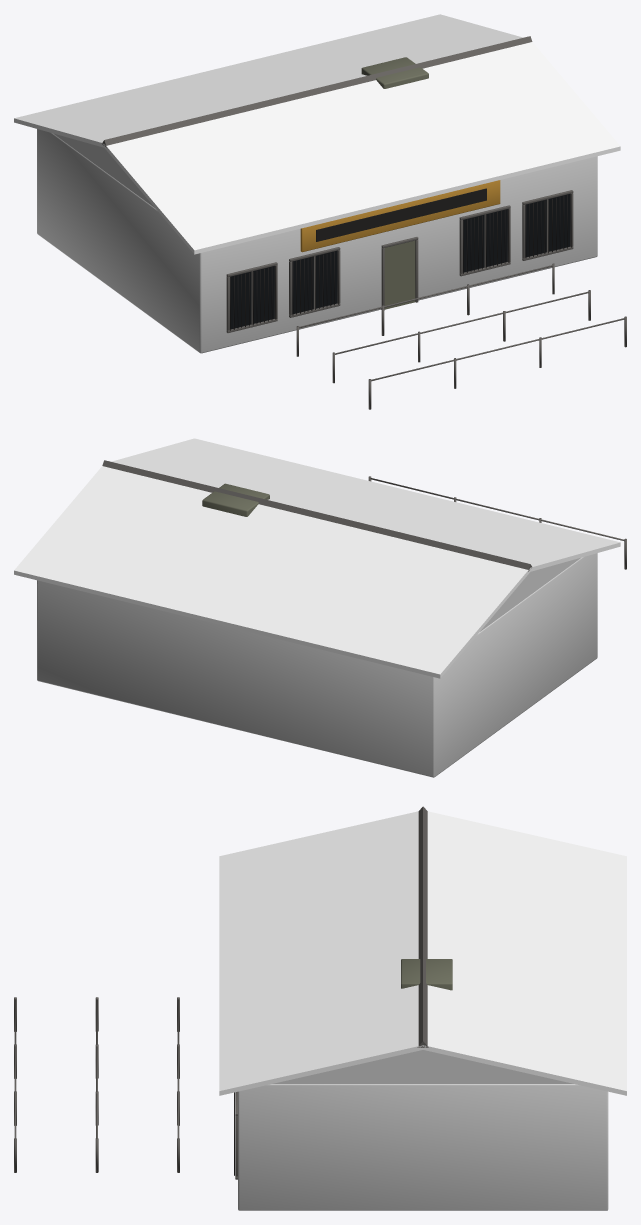
Rendered from bld_pawn_shop.glb.
3 renders of one model, top to bottom at view 1: azimuth 30°, elevation 25°; view 2: azimuth 150°, elevation 25°; view 3: azimuth 270°, elevation 25°, orthographic. The views are drawn at different scales.
Parts seen in each view (by area): view 1: pw_roof_front, pw_body, pw_roof_back, pw_fascia, pw_roof_cap, pw_win2, pw_win1, pw_win3, pw_win0, pw_fasciatext, pw_door, pw_roof_gable (+4 smaller); view 2: pw_body, pw_roof_back, pw_roof_front, pw_roof_cap, pw_roof_gable, pw_unit, pw_rail.002; view 3: pw_roof_front, pw_roof_back, pw_body, pw_roof_gable, pw_roof_cap, pw_unit.
Boxes of the visible parts, x1,y1,x2,y2 form: pw_roof_front: (104, 42, 620, 254); pw_body: (37, 129, 597, 353); pw_roof_back: (14, 14, 522, 147); pw_fascia: (300, 180, 500, 252); pw_roof_cap: (102, 36, 532, 147); pw_win2: (463, 209, 507, 272); pw_win1: (292, 251, 337, 313); pw_win3: (525, 194, 570, 257); pw_win0: (230, 266, 274, 329); pw_fasciatext: (316, 188, 486, 241); pw_door: (384, 240, 415, 309); pw_roof_gable: (53, 133, 154, 207); pw_body: (37, 553, 597, 777); pw_roof_back: (14, 466, 530, 678); pw_roof_front: (111, 438, 620, 571); pw_roof_cap: (102, 460, 531, 571); pw_roof_gable: (480, 558, 580, 631); pw_unit: (202, 483, 269, 516); pw_rail.002: (370, 478, 624, 540); pw_roof_front: (219, 811, 422, 1095); pw_roof_back: (423, 811, 626, 1095); pw_body: (238, 1084, 608, 1210); pw_roof_gable: (273, 1050, 573, 1083); pw_roof_cap: (417, 806, 428, 1047); pw_unit: (401, 959, 452, 990).
Bounding box in the file's own units: 15 × 5.31 × 16.54.
